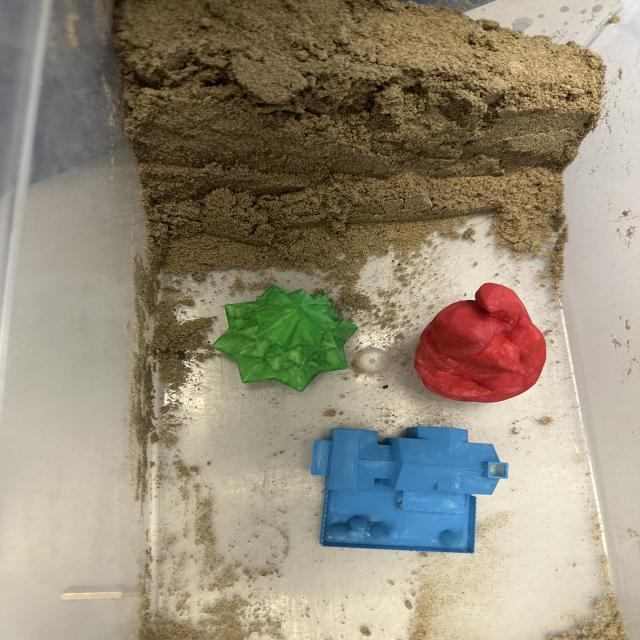fire: (412, 281, 547, 404)
house: (308, 424, 510, 555)
tree: (210, 282, 359, 392)
